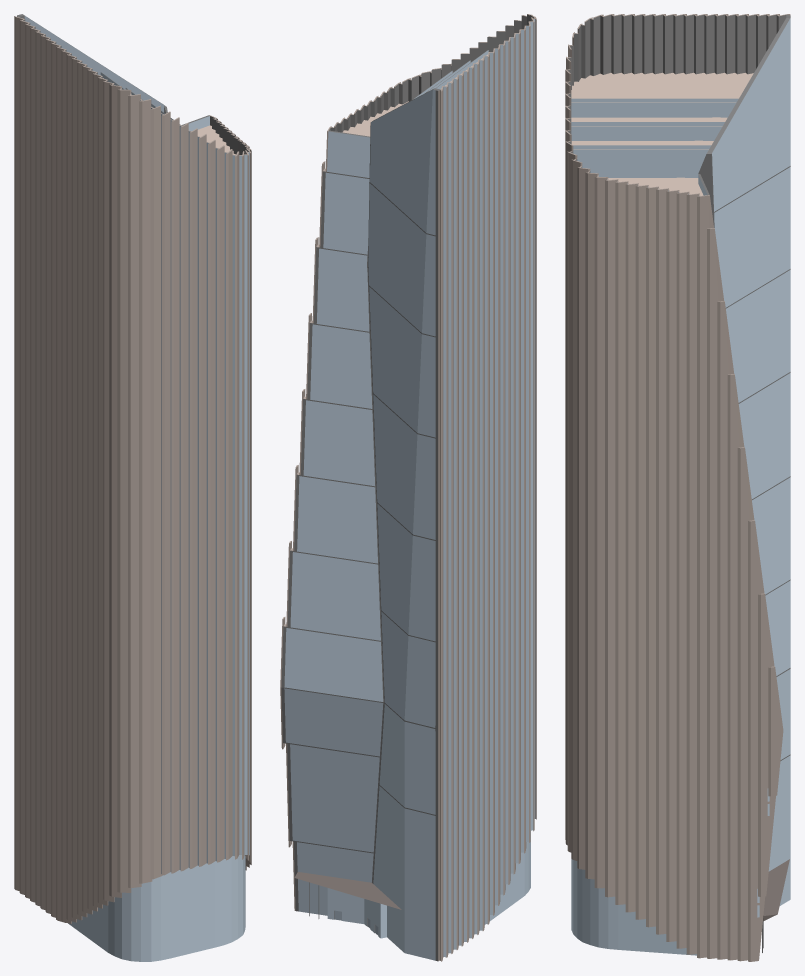
The picture shows the model from 3 angles, left to right: view 1: azimuth 30°, elevation 25°; view 2: azimuth 150°, elevation 25°; view 3: azimuth 270°, elevation 25°; orthographic projection.
Visible parts, largest first — view 1: 70030076201848455lod; view 2: 70030076201848455lod; view 3: 70030076201848455lod.
Boxes of the visible parts, left/top/right/bottom form: 70030076201848455lod: left=14, top=14, right=251, bottom=961; 70030076201848455lod: left=280, top=14, right=536, bottom=961; 70030076201848455lod: left=565, top=14, right=790, bottom=961.
Size of the model in its own units: 53.12 by 264 by 62.03.
Materials: 1 (1 with a texture image).
